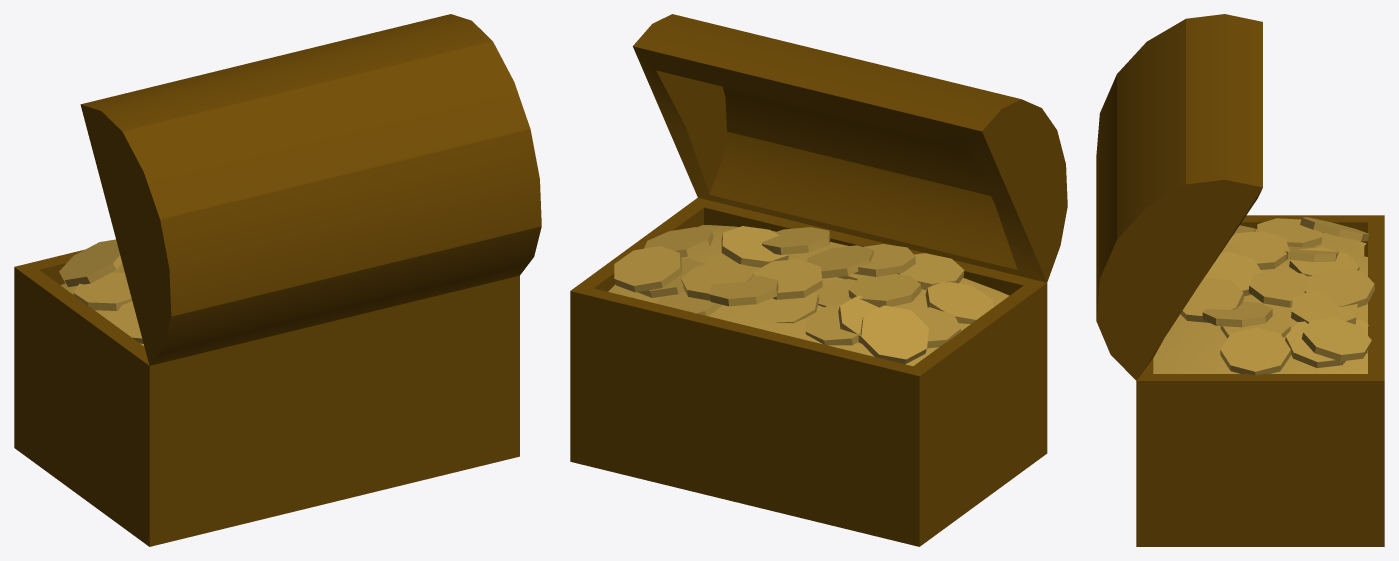
File: Chest.fbx
3 views of the same model, side by side, from view 1: azimuth 30°, elevation 25°; view 2: azimuth 150°, elevation 25°; view 3: azimuth 270°, elevation 25° (orthographic). The views are drawn at different scales.
Parts seen in each view (by area): view 1: Tapa, ChestBase, Gold1; view 2: ChestBase, Tapa, Gold1; view 3: ChestBase, Tapa, Gold1.
Boxes of the visible parts, x1,y1,x2,y2 form: Tapa: (80, 14, 541, 365); ChestBase: (14, 249, 519, 546); Gold1: (59, 239, 144, 346); ChestBase: (570, 197, 1047, 546); Tapa: (632, 14, 1067, 282); Gold1: (608, 225, 1009, 365); ChestBase: (1136, 215, 1384, 546); Tapa: (1096, 14, 1262, 380); Gold1: (1153, 217, 1374, 375).
Bounding box in the file's own units: 148 × 153 × 108.
